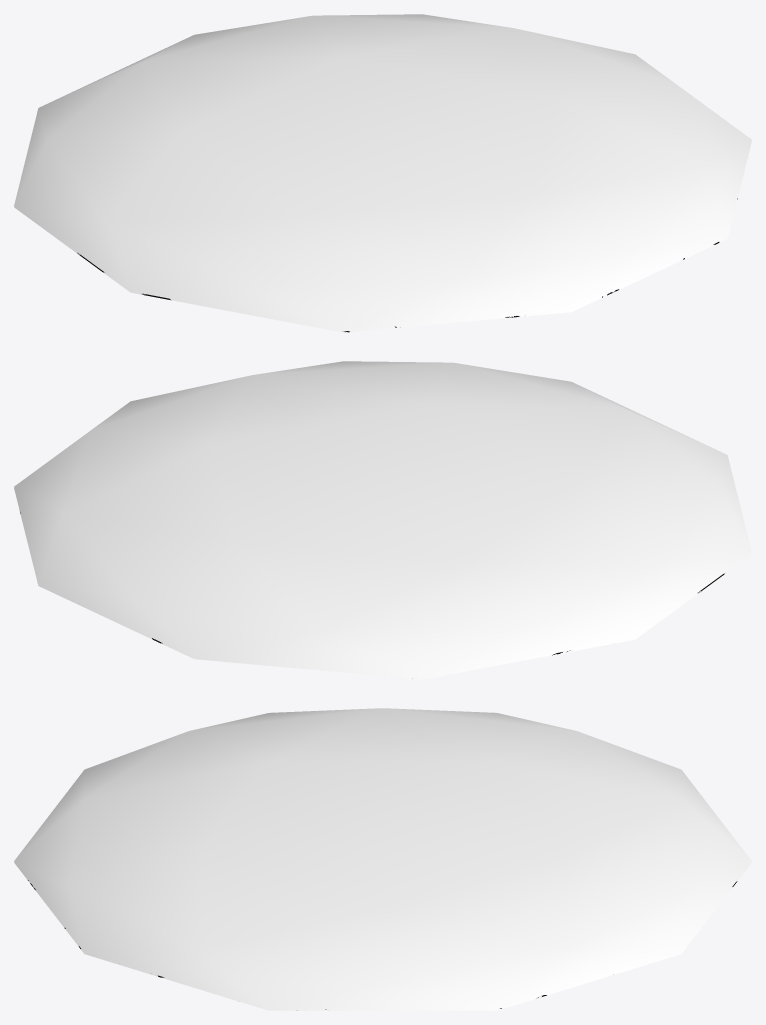
The model's file is skyDome.fbx.
The picture shows the model from 3 angles, top to bottom: view 1: azimuth 30°, elevation 25°; view 2: azimuth 150°, elevation 25°; view 3: azimuth 270°, elevation 25°; orthographic projection. The views are drawn at different scales.
Visible parts, largest first — view 1: Icosphere (1), Icosphere; view 2: Icosphere (1), Icosphere; view 3: Icosphere (1), Icosphere.
Part boxes in pixels (box(x1,y1,x2,y2)): Icosphere (1): box(14, 14, 751, 331); Icosphere: box(14, 141, 751, 332); Icosphere (1): box(14, 361, 751, 678); Icosphere: box(14, 488, 751, 679); Icosphere (1): box(14, 708, 751, 1009); Icosphere: box(14, 862, 751, 1010).
Bounding box in the file's own units: 7220 × 455 × 7591.
Materials: 2 (2 with a texture image).
